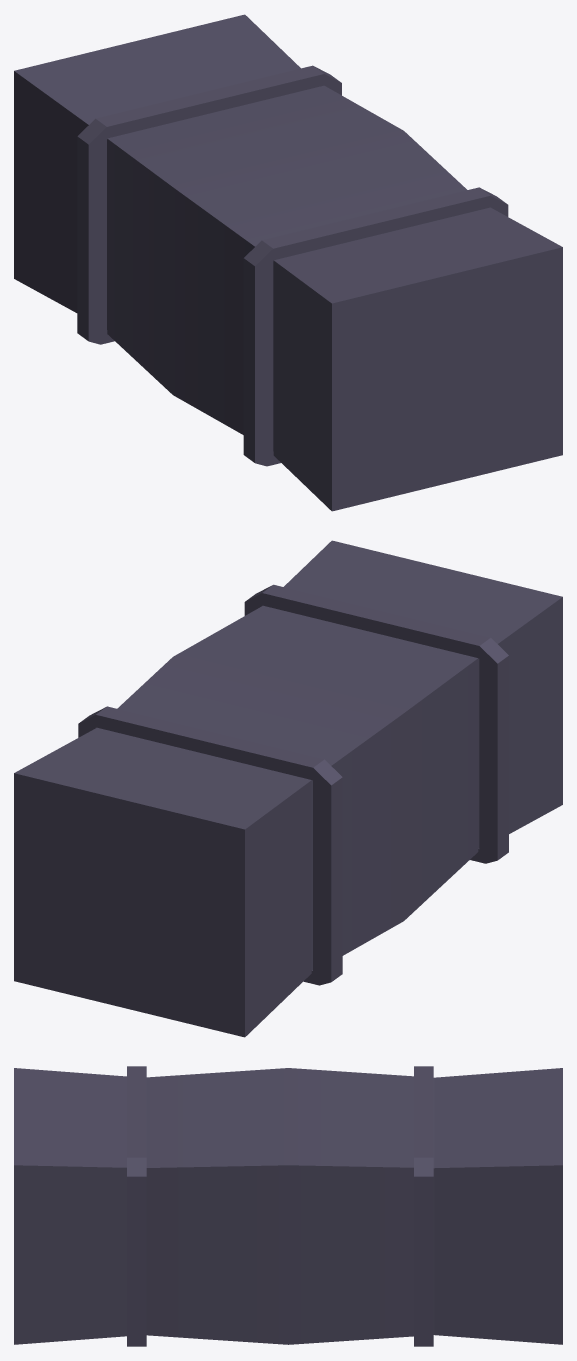
File: HayBale.fbx
3 renders of one model, top to bottom at view 1: azimuth 30°, elevation 25°; view 2: azimuth 150°, elevation 25°; view 3: azimuth 270°, elevation 25°, orthographic. The views are drawn at different scales.
Visible parts, largest first — view 1: pCube13, pCube14, pCube15; view 2: pCube13, pCube15, pCube14; view 3: pCube13, pCube14, pCube15.
Part boxes in pixels (bbox=[...]): pCube13: bbox=[14, 14, 562, 511]; pCube14: bbox=[243, 187, 508, 466]; pCube15: bbox=[77, 65, 341, 344]; pCube13: bbox=[14, 540, 562, 1037]; pCube15: bbox=[78, 706, 342, 985]; pCube14: bbox=[244, 584, 508, 863]; pCube13: bbox=[14, 1068, 562, 1344]; pCube14: bbox=[127, 1066, 146, 1346]; pCube15: bbox=[414, 1066, 433, 1346].
Size of the model in its own units: 309 by 253 by 673.
